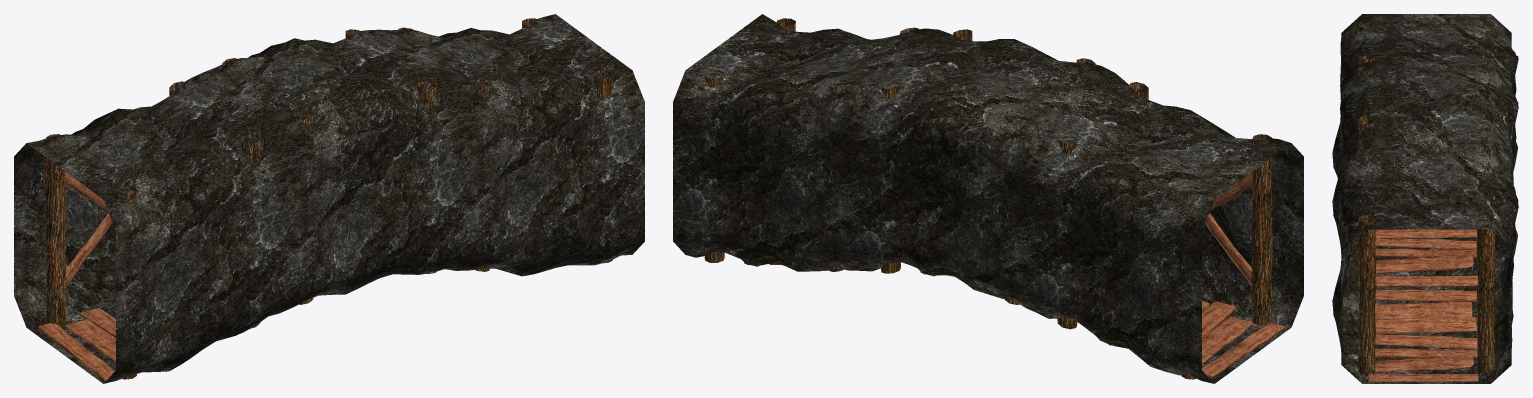
Rendered from Cave_027.fbx.
3 views of the same model, side by side, from view 1: azimuth 30°, elevation 25°; view 2: azimuth 150°, elevation 25°; view 3: azimuth 270°, elevation 25° (orthographic). The views are drawn at different scales.
Parts seen in each view (by area): view 1: Cave.027; view 2: Cave.027; view 3: Cave.027.
Part boxes in pixels (x1=…): Cave.027: x1=14, y1=14, x2=644, y2=383; Cave.027: x1=673, y1=14, x2=1303, y2=383; Cave.027: x1=1332, y1=14, x2=1518, y2=383.
Bounding box in the file's own units: 900 × 369 × 328.
